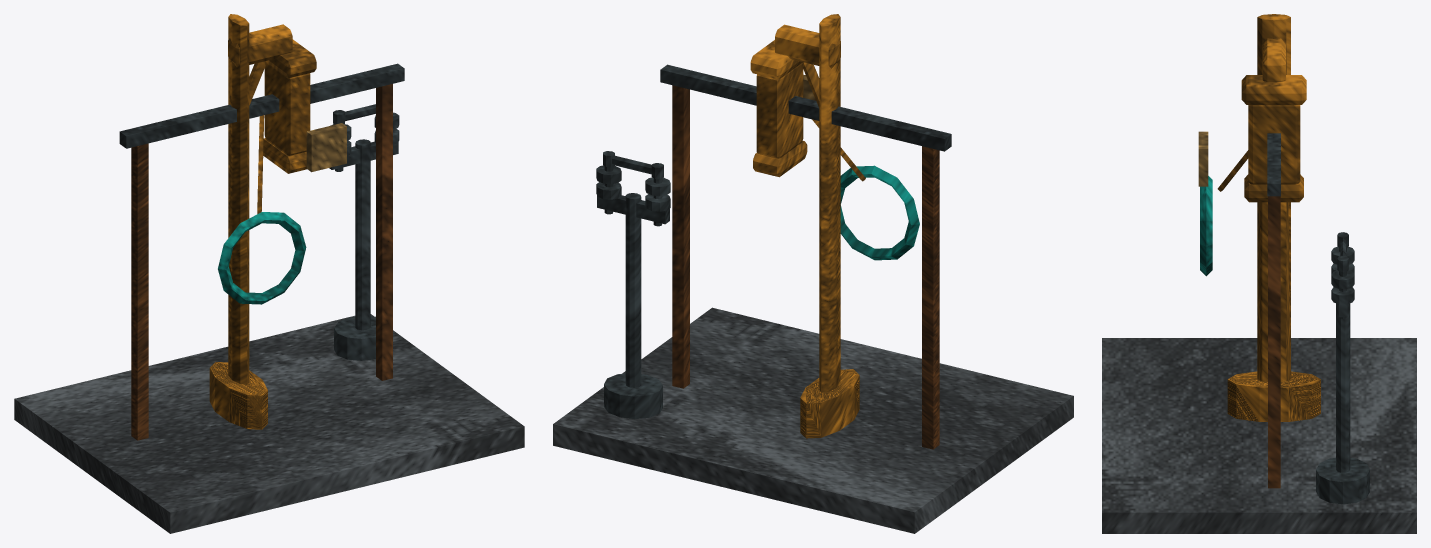
The model's file is downriver-tram-lamp.glb.
3 views of the same model, side by side, from view 1: azimuth 30°, elevation 25°; view 2: azimuth 150°, elevation 25°; view 3: azimuth 270°, elevation 25° (orthographic). The views are drawn at different scales.
Parts seen in each view (by area): view 1: downriver-tram-lamp; view 2: downriver-tram-lamp; view 3: downriver-tram-lamp.
Part boxes in pixels (x1,y1,x2,y2): downriver-tram-lamp: (14,14,524,533); downriver-tram-lamp: (553,14,1073,533); downriver-tram-lamp: (1102,14,1416,533).
Bounding box in the file's own units: 4.2 × 4.69 × 3.2.
Materials: 1 (1 with a texture image).
